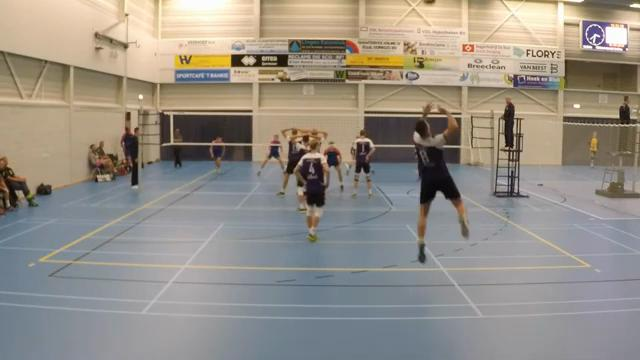Player: (295, 140, 328, 241), (352, 130, 374, 197), (277, 128, 298, 195), (257, 134, 284, 175), (324, 141, 343, 190), (292, 134, 319, 165), (209, 137, 224, 173), (309, 129, 328, 151), (345, 140, 355, 175), (414, 149, 422, 181)
Serve: (407, 95, 470, 265)
ball: (422, 0, 438, 6)
